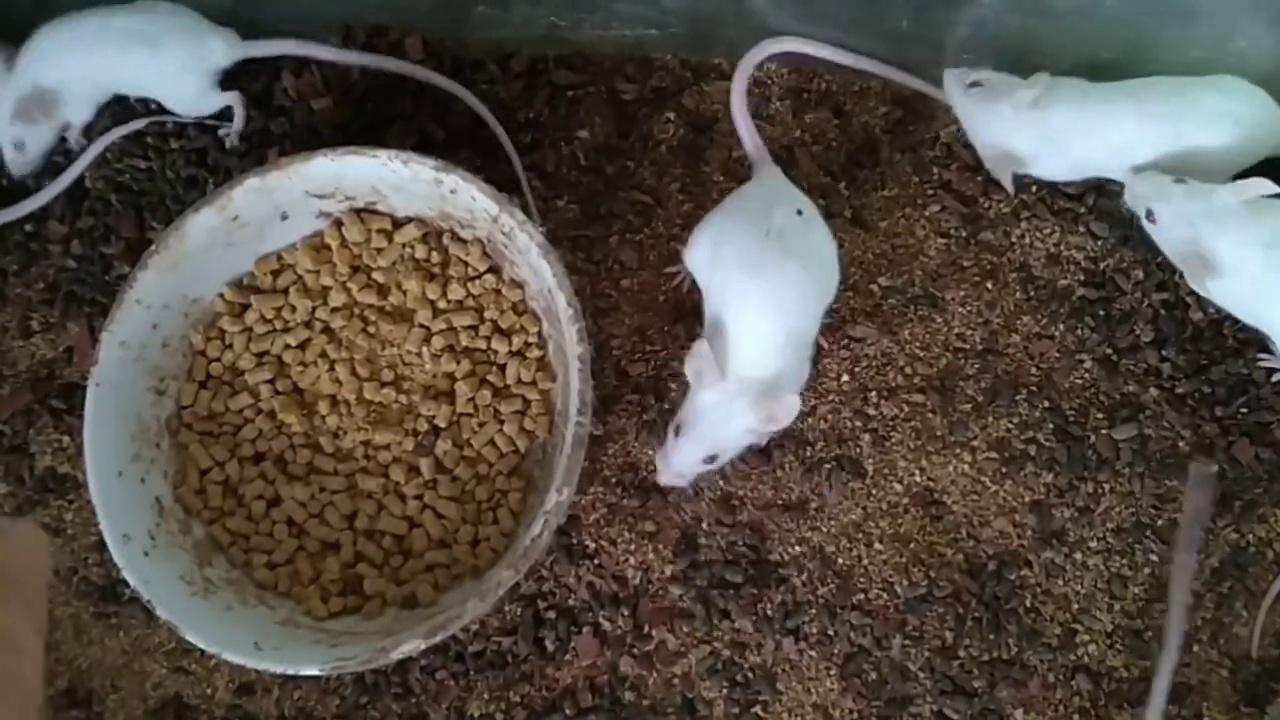rat: (655, 35, 944, 486), (0, 0, 542, 224), (944, 67, 1280, 194), (1126, 169, 1280, 382)
